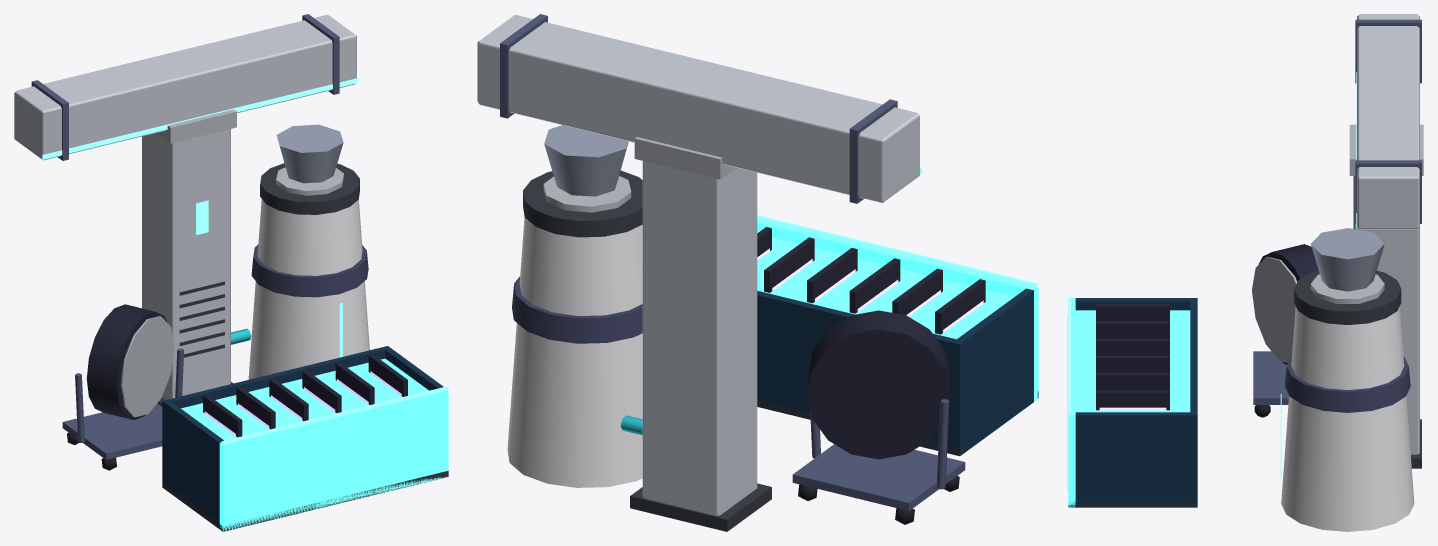
The model's file is station_transport_3.glb.
3 renders of one model, left to right at view 1: azimuth 30°, elevation 25°; view 2: azimuth 150°, elevation 25°; view 3: azimuth 270°, elevation 25°, orthographic. The views are drawn at different scales.
Parts seen in each view (by area): view 1: station_transport_3; view 2: station_transport_3; view 3: station_transport_3.
Boxes of the visible parts, x1,y1,x2,y2 form: station_transport_3: (14,14,448,531); station_transport_3: (477,14,1038,531); station_transport_3: (1067,14,1423,531).
Bounding box in the file's own units: 2.11 × 2.13 × 1.93.
